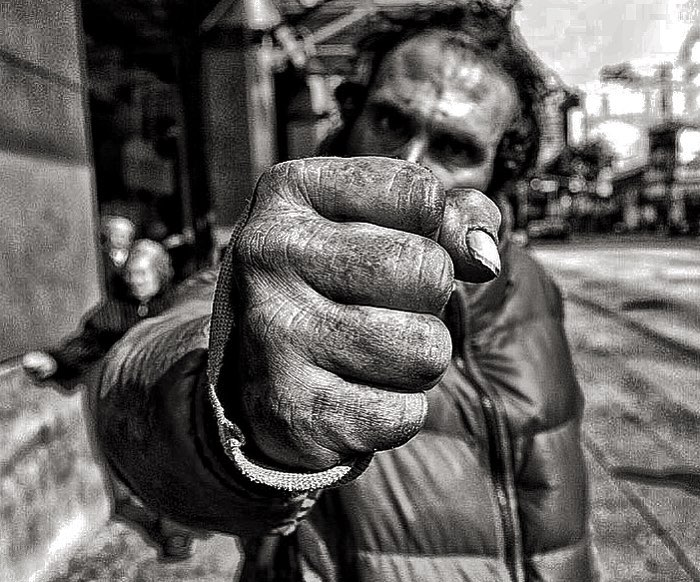hand: (244, 190, 474, 418)
